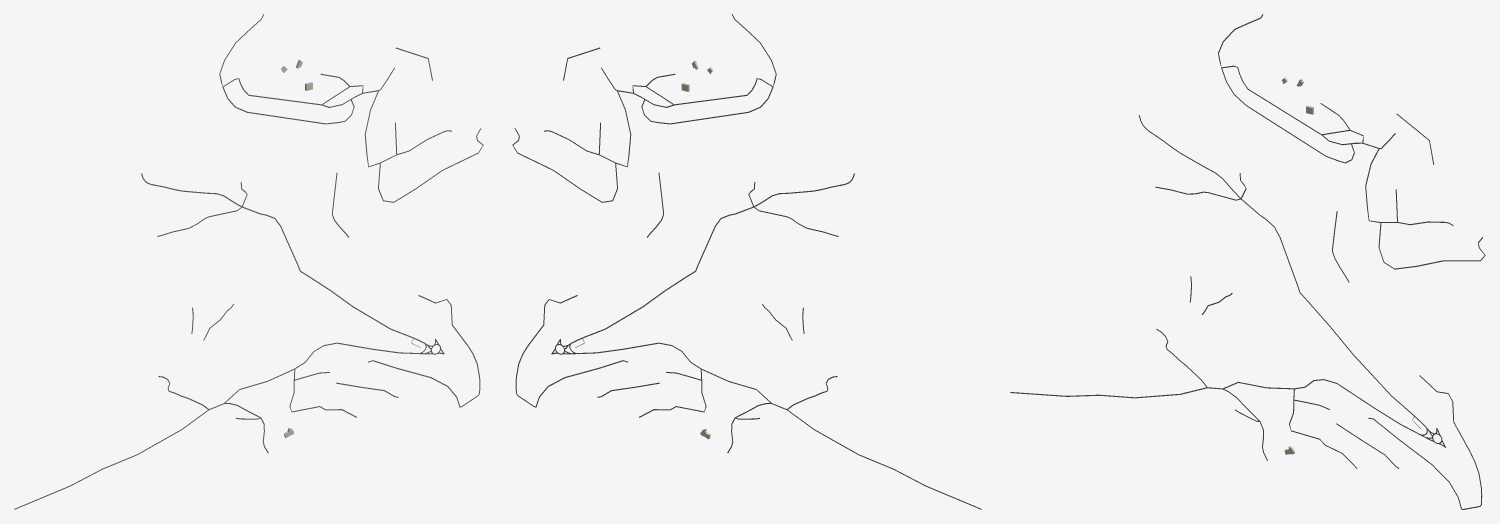
The model's file is historic-palestine-09_31_3514_3251.glb.
3 views of the same model, side by side, from view 1: azimuth 30°, elevation 25°; view 2: azimuth 150°, elevation 25°; view 3: azimuth 330°, elevation 25° (orthographic).
Parts seen in each view (by area): view 1: Road علي بن أبي طالب, Road .015; view 2: Road علي بن أبي طالب, Road .015; view 3: Road علي بن أبي طالب, Road .015.
Boxes of the visible parts, <box> form: Road علي بن أبي طالب: <box>14,342,424,509</box>; Road .015: <box>141,173,427,345</box>; Road علي بن أبي طالب: <box>571,342,981,509</box>; Road .015: <box>568,173,854,345</box>; Road علي بن أبي طالب: <box>1010,379,1425,437</box>; Road .015: <box>1139,115,1428,430</box>.
Size of the model in its own units: 1476 by 1327 by 8.7.
